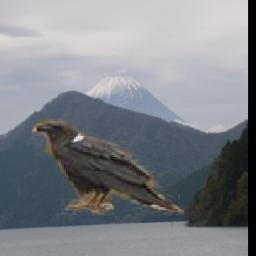Crow: (31, 120, 183, 217)
